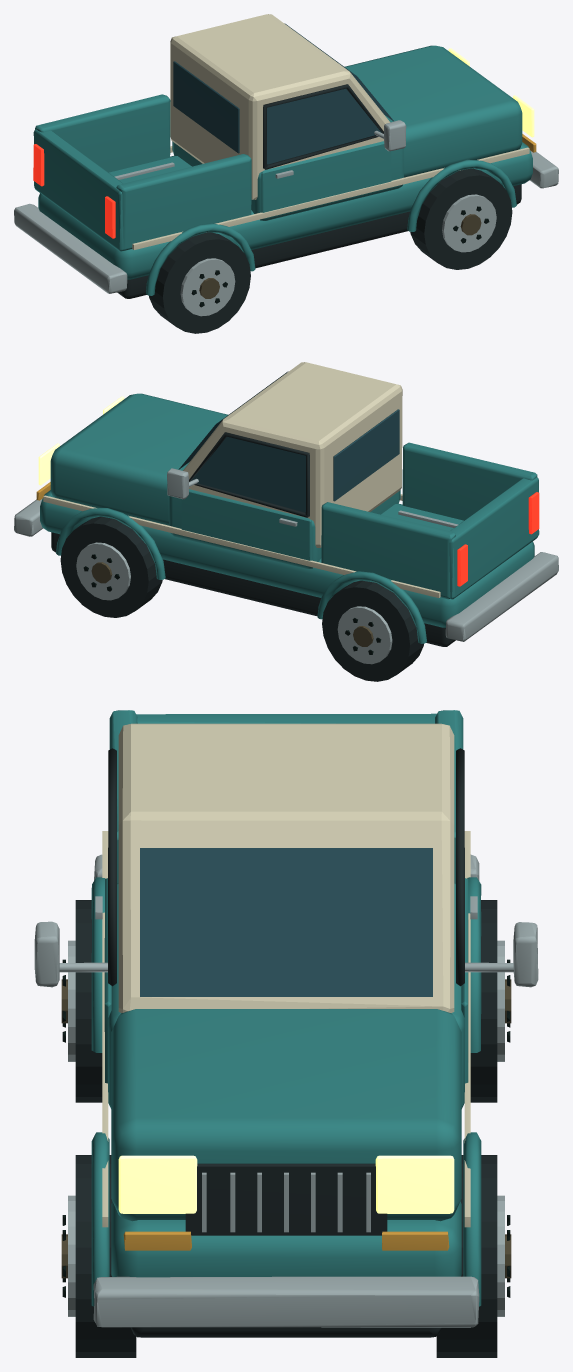
The model's file is truck.glb.
3 renders of one model, top to bottom at view 1: azimuth 30°, elevation 25°; view 2: azimuth 150°, elevation 25°; view 3: azimuth 270°, elevation 25°, orthographic. The views are drawn at different scales.
Visible parts, largest first — view 1: TRUCK; view 2: TRUCK; view 3: TRUCK.
Part boxes in pixels (x1=…): TRUCK: x1=14, y1=14, x2=558, y2=333; TRUCK: x1=14, y1=362, x2=558, y2=681; TRUCK: x1=34, y1=710, x2=538, y2=1357.
Size of the model in its own units: 2.92 by 1.33 by 1.41.
